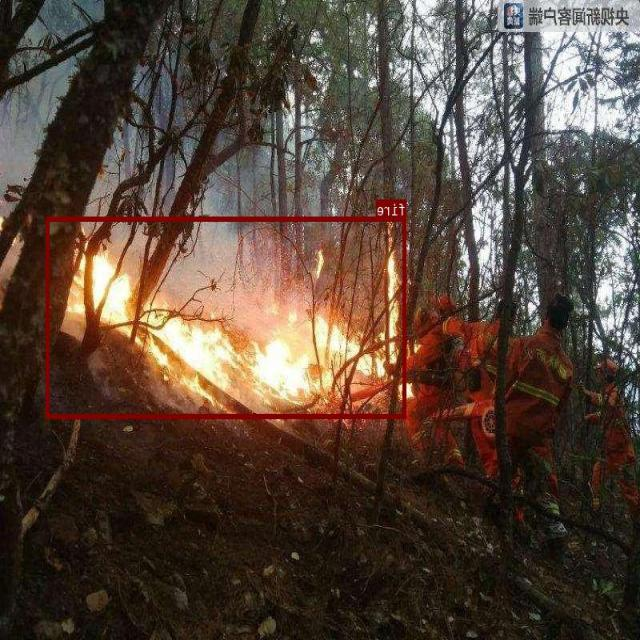fire: (47, 216, 407, 417)
